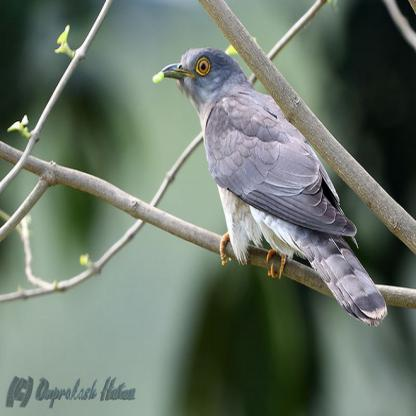Burung: (152, 46, 387, 327)
